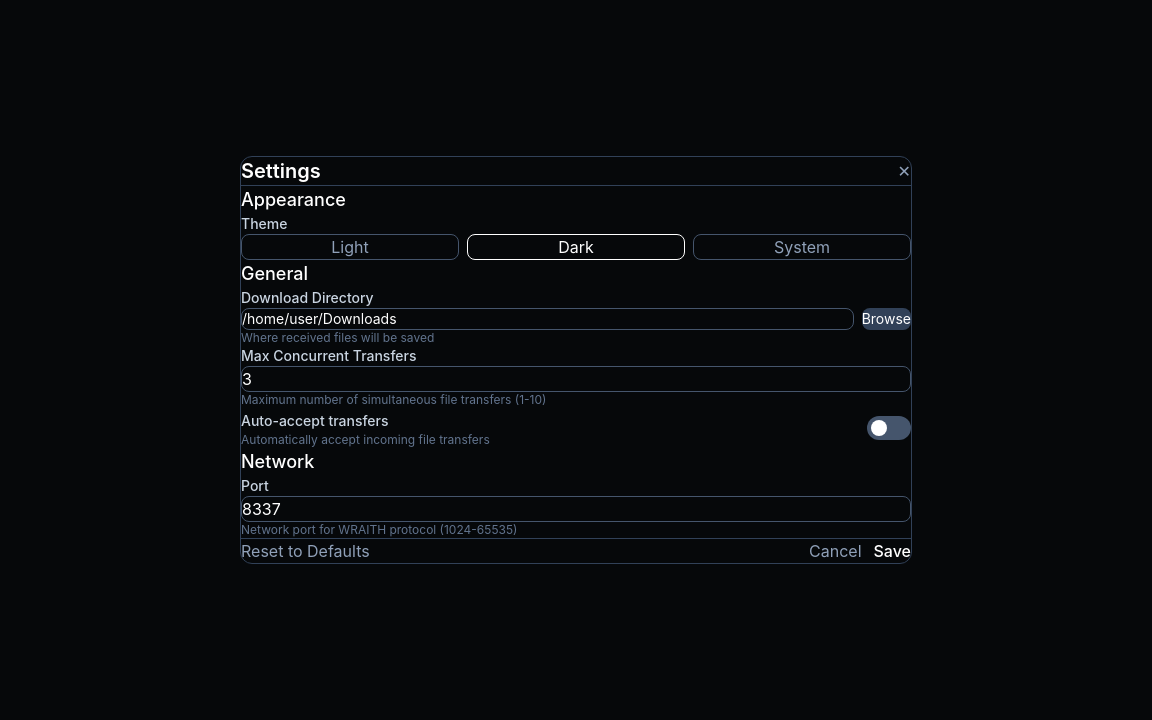
Scenario: SettingsPanel › form behavior › allows editing max concurrent transfers
# Select all text and replace
Click the number field showing "3" below "Max Concurrent Transfers" at [576, 379], box [241,366,911,392]
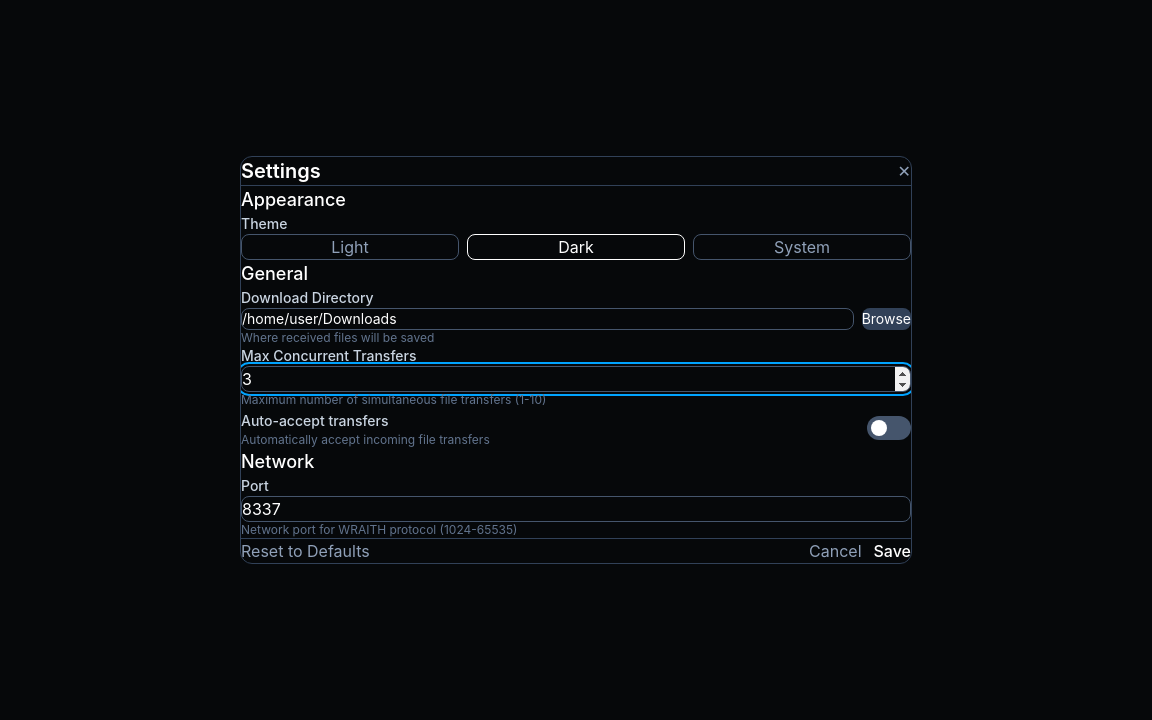
Type keys "5"
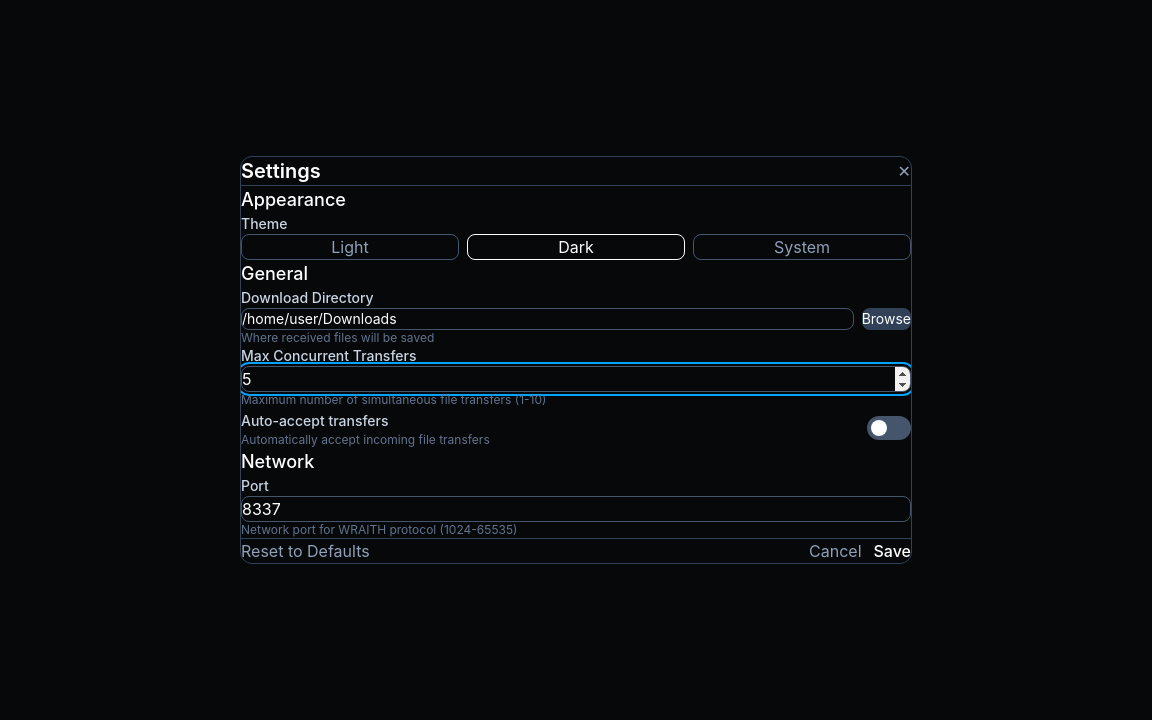
Check: the number field showing "3" below "Max Concurrent Transfers" holds "5", box [241,366,911,392]
